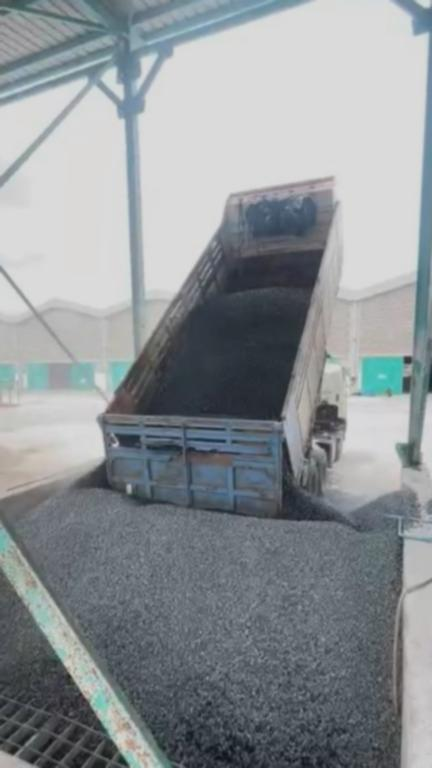gravel: (4, 466, 423, 768), (153, 290, 306, 417), (0, 537, 85, 717)
sand: (0, 437, 63, 496)
